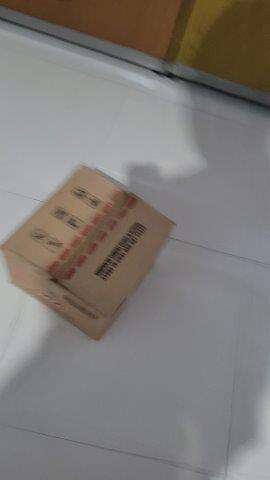kardus: (3, 164, 174, 342)
